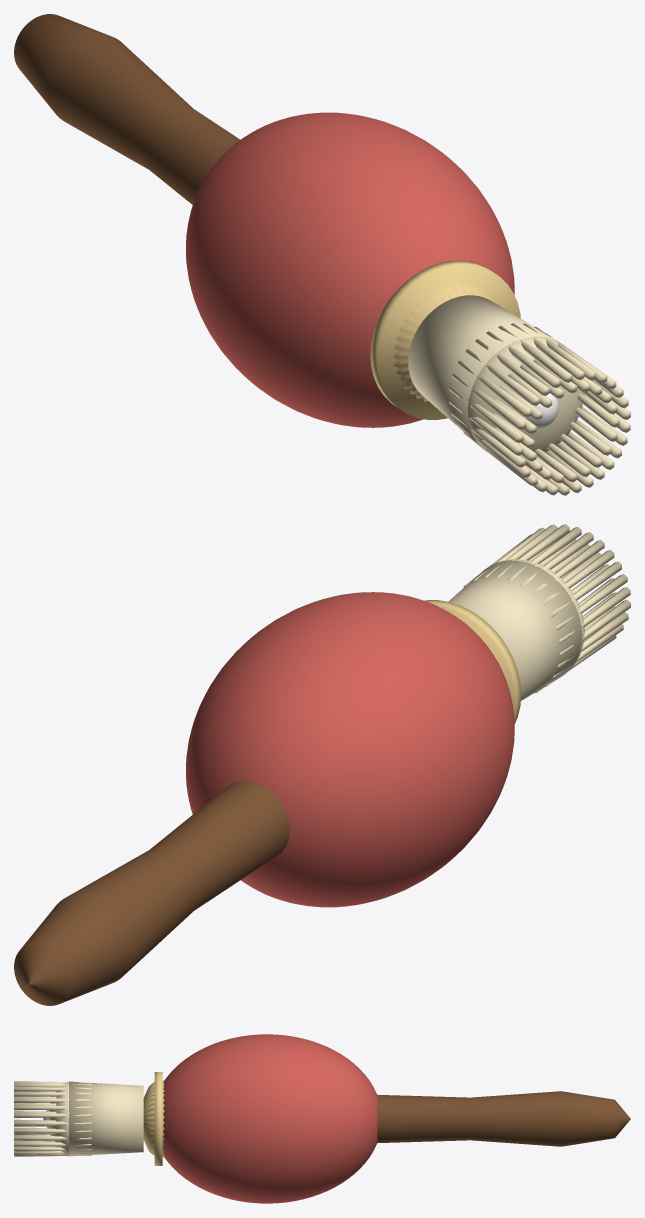
File: tools.glb
3 renders of one model, top to bottom at view 1: azimuth 30°, elevation 25°; view 2: azimuth 150°, elevation 25°; view 3: azimuth 270°, elevation 25°, orthographic. The views are drawn at different scales.
Visible parts, largest first — view 1: blow, brush; view 2: blow, brush; view 3: blow, brush.
Boxes of the visible parts, <box> form: blow: <box>186,112,514,427</box>; brush: <box>14,14,630,495</box>; blow: <box>186,592,514,907</box>; brush: <box>14,524,630,1005</box>; blow: <box>163,1034,377,1203</box>; brush: <box>14,1072,630,1165</box>.
Size of the model in its own units: 0.3166 by 0.3166 by 1.15.
